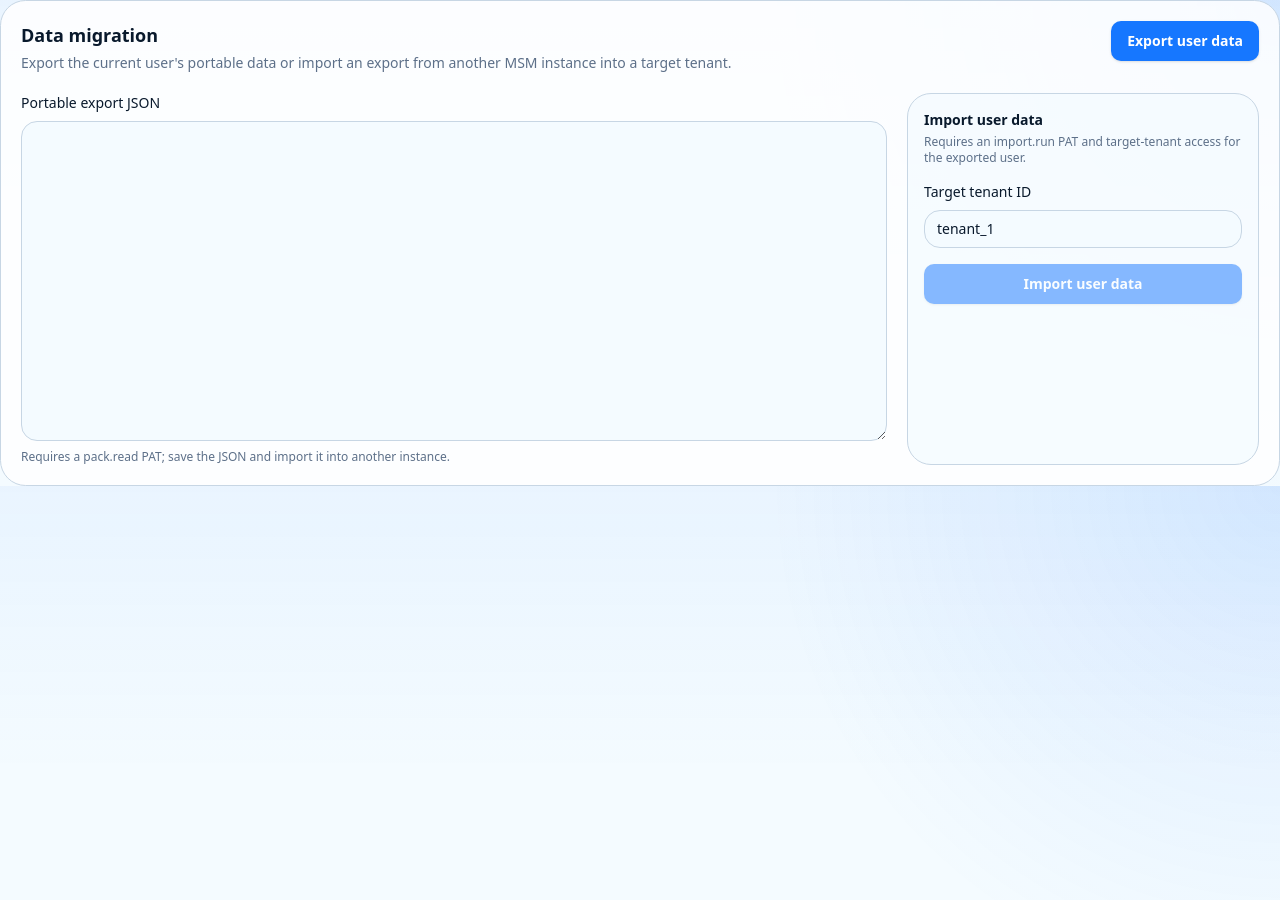
Test: PortabilityPanel › exports and imports portable user data
The image size is (1280, 900).
Click the button "Export user data": (1185, 41) x1=1111 y1=21 x2=1259 y2=61
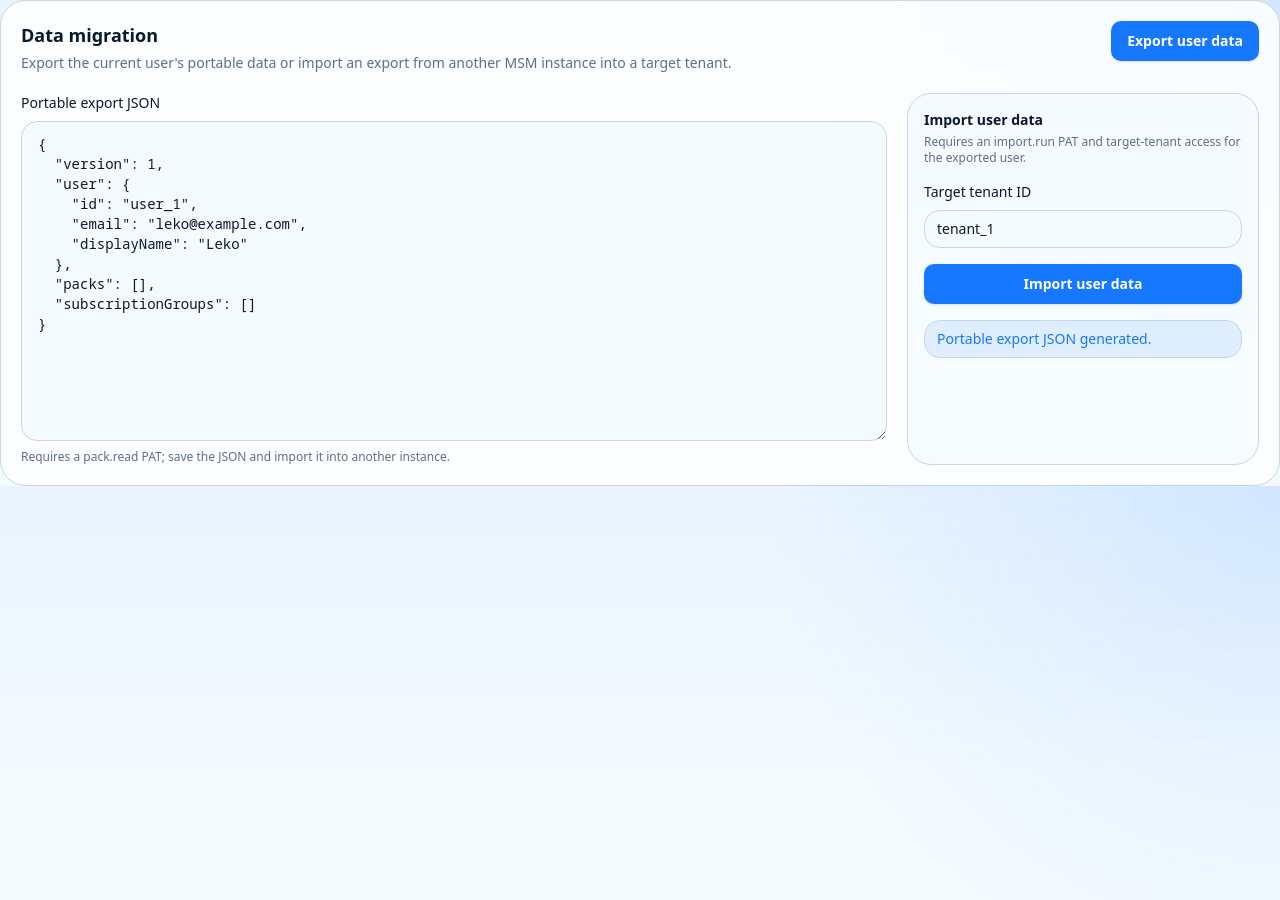
Replace the text in the field named "Target tenant ID" with "tenant_2": (1083, 229) x1=924 y1=210 x2=1242 y2=248
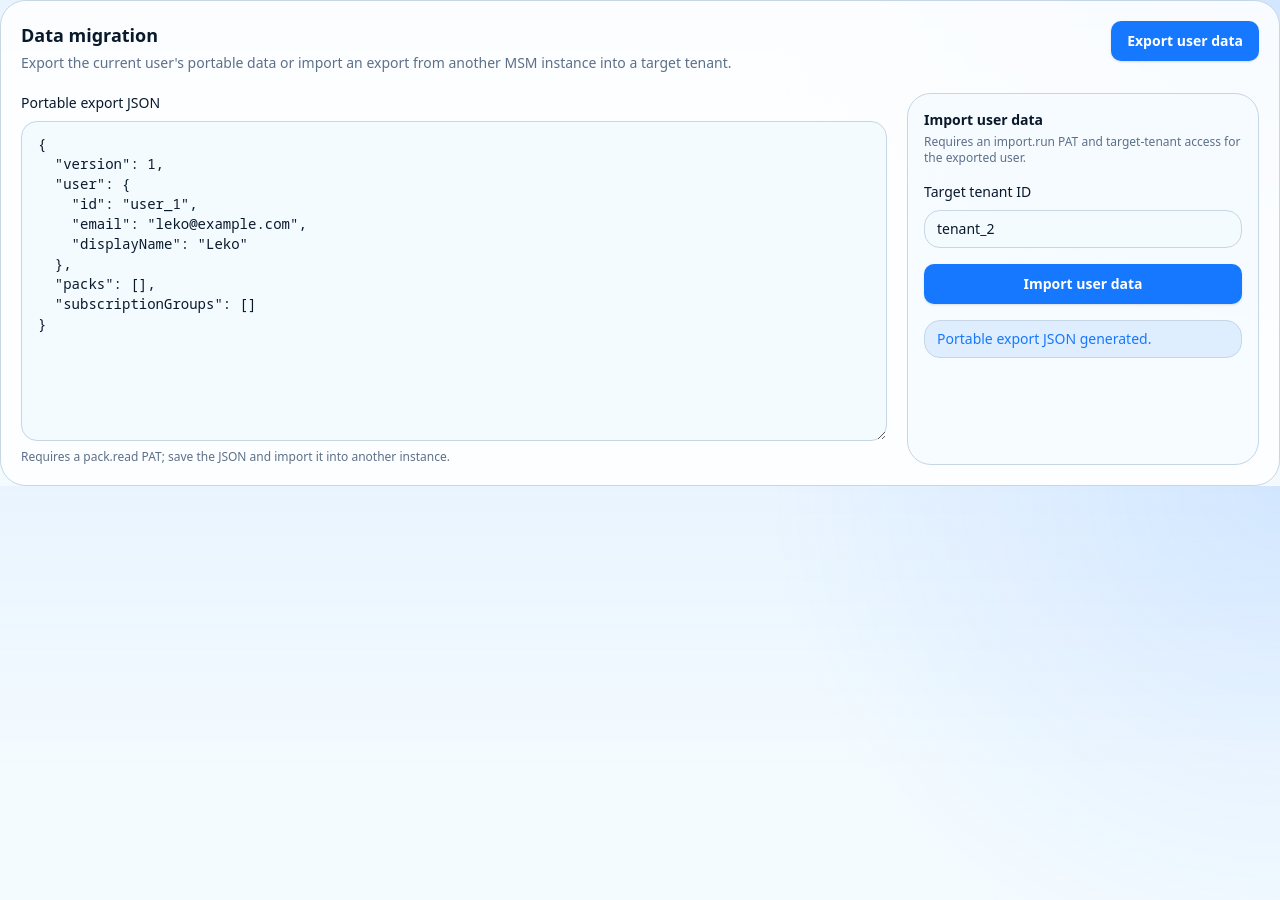
Click the button "Import user data": (1083, 284) x1=924 y1=264 x2=1242 y2=304
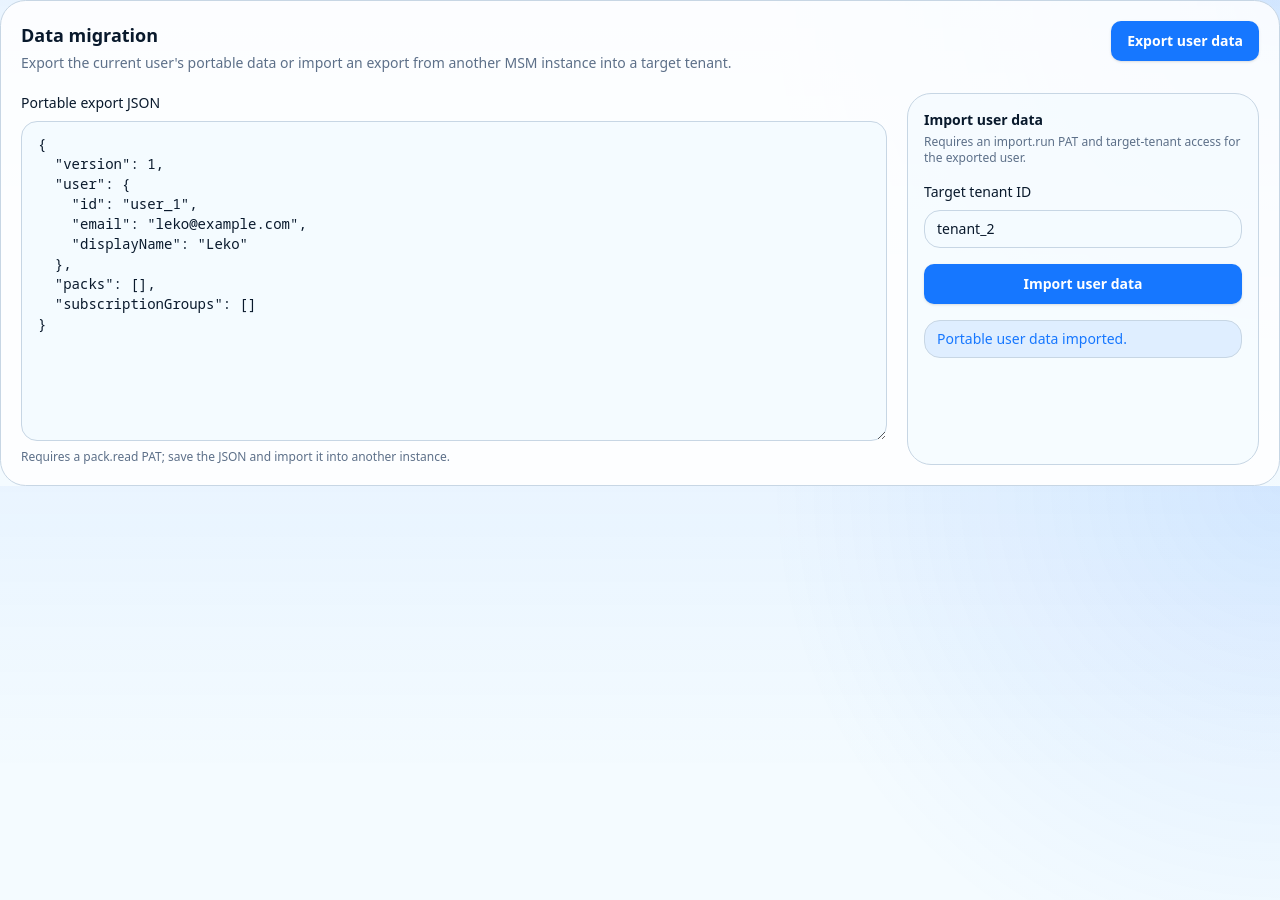
Expected: the text "Portable user data imported." is shown, x1=924 y1=320 x2=1242 y2=358
